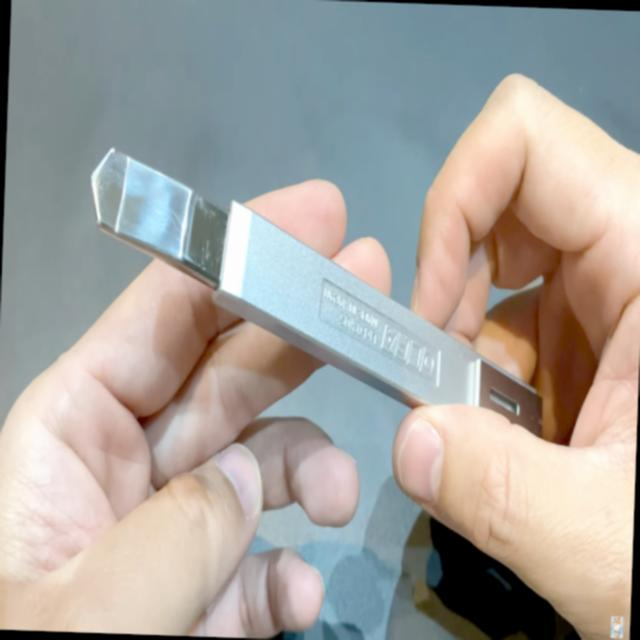cutter: (61, 49, 640, 600)
